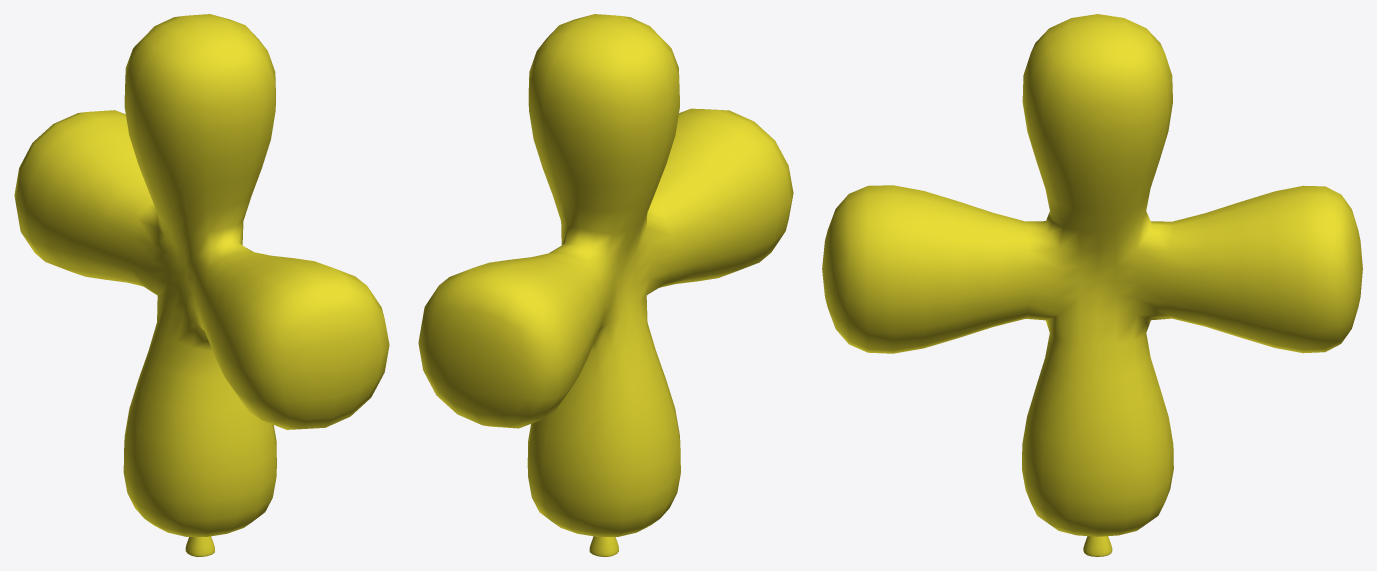
Rendered from Copy of Xballoon1.1.fbx.
3 renders of one model, left to right at view 1: azimuth 30°, elevation 25°; view 2: azimuth 150°, elevation 25°; view 3: azimuth 270°, elevation 25°, orthographic.
Visible parts, largest first — view 1: XBalloon; view 2: XBalloon; view 3: XBalloon.
Part boxes in pixels (<box>): XBalloon: <box>14,14,389,556</box>; XBalloon: <box>418,14,793,556</box>; XBalloon: <box>822,14,1362,556</box>.
Bounding box in the file's own units: 33.71 × 118 × 110.
